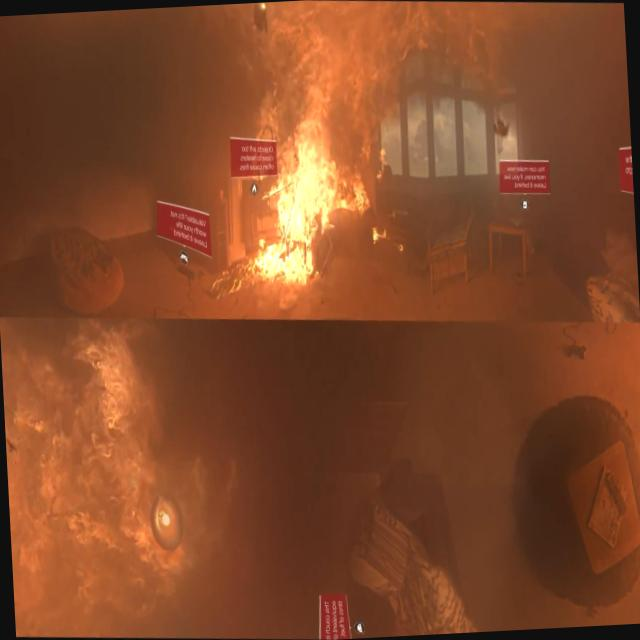fire: (228, 0, 427, 293)
